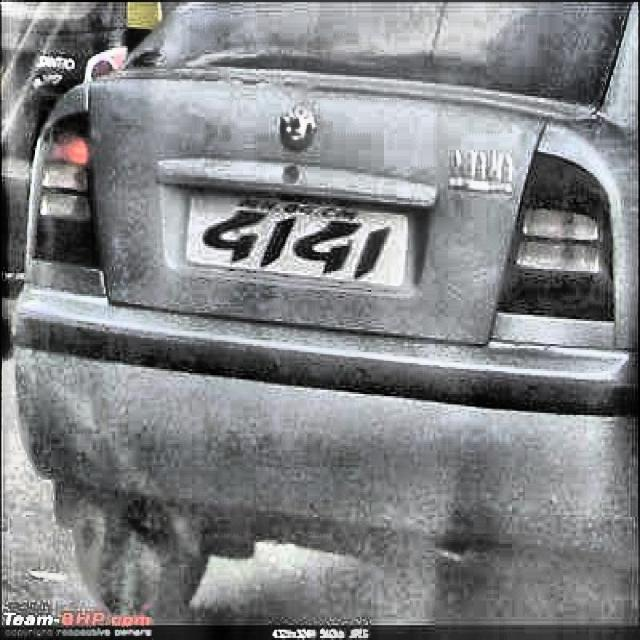license_plate: (188, 191, 398, 283)
